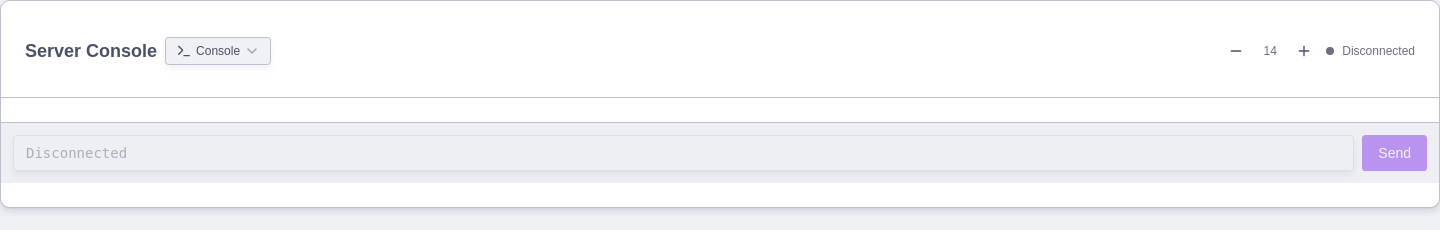
Test: ConsolePanel › source selector dropdown › shows "Console" label by default for console mode
Click the button with test id "source-selector": point(218, 51) [165,37,271,65]
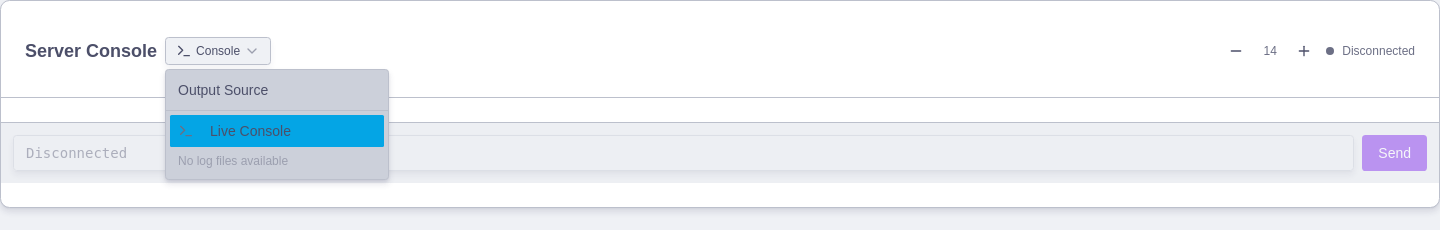
Expected: the menu item "Live Console" is shown, [170,115,384,147]
